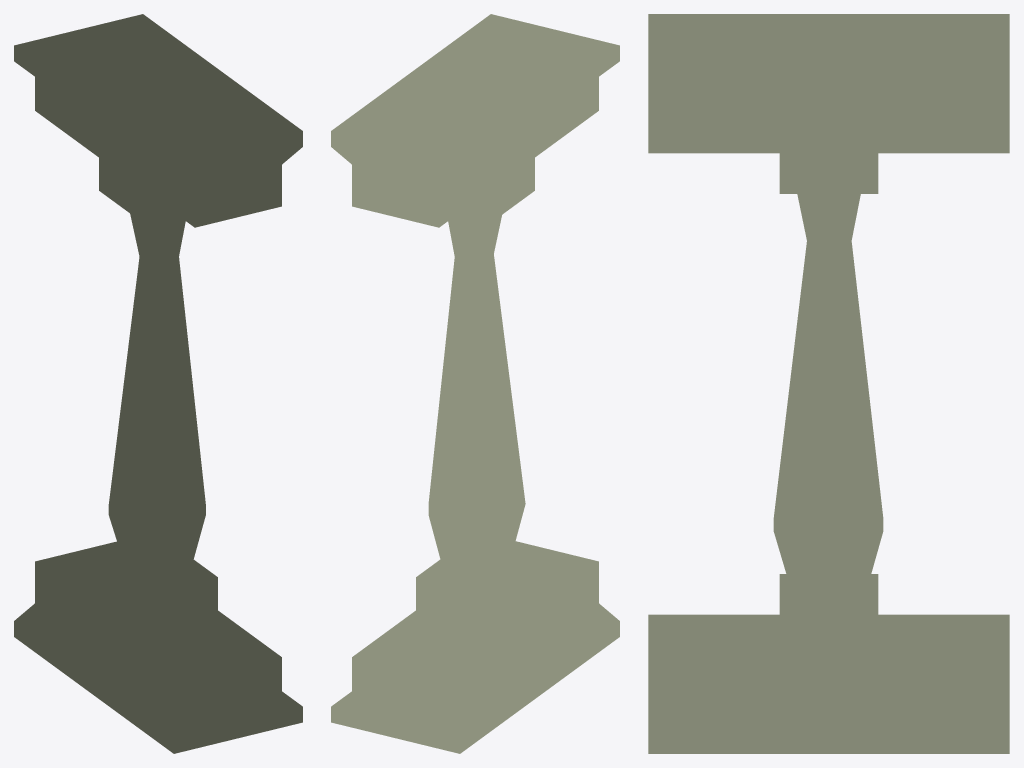
Rendered from railing_1piece.dae.
The picture shows the model from 3 angles, left to right: view 1: azimuth 30°, elevation 25°; view 2: azimuth 150°, elevation 25°; view 3: azimuth 270°, elevation 25°; orthographic projection. The views are drawn at different scales.
Parts seen in each view (by area): view 1: cube2-0; view 2: cube2-0; view 3: cube2-0.
Boxes of the visible parts, bbox=[...] form: cube2-0: bbox=[14, 14, 302, 753]; cube2-0: bbox=[331, 14, 619, 753]; cube2-0: bbox=[648, 14, 1009, 753].
Size of the model in its own units: 0.1466 by 0.6424 by 0.3147.
